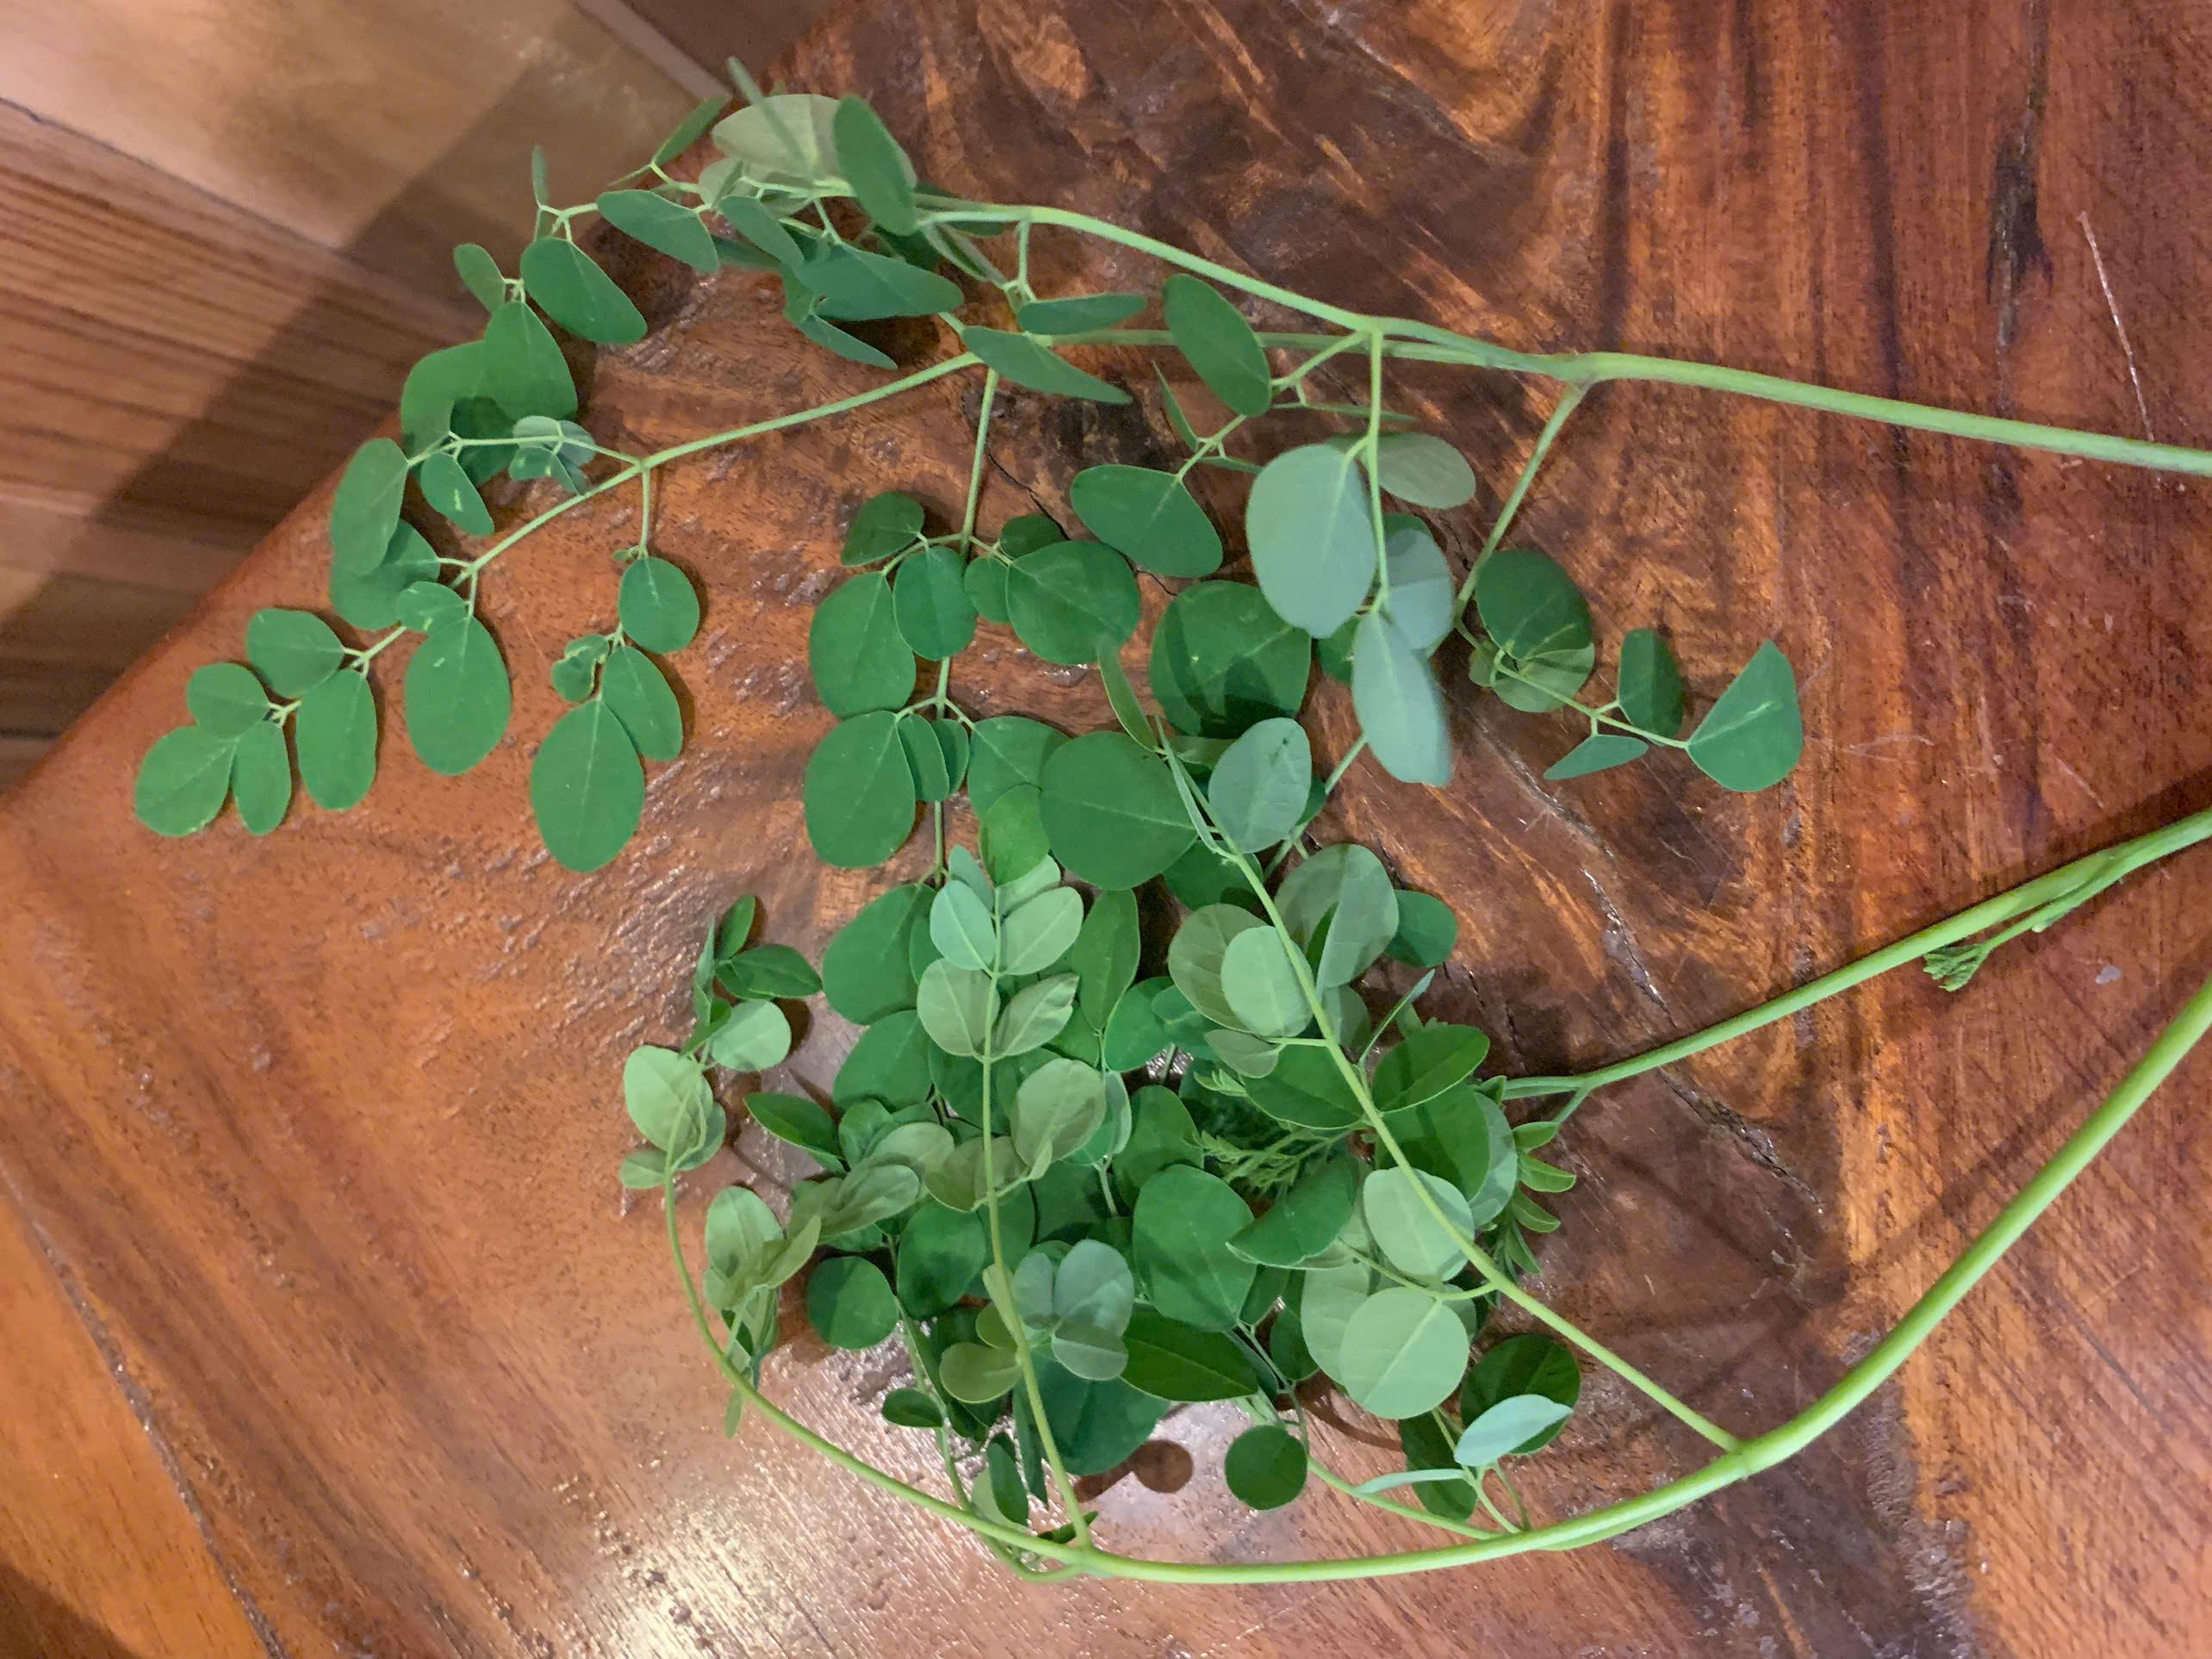Huu co: (256, 84, 1857, 1572)
